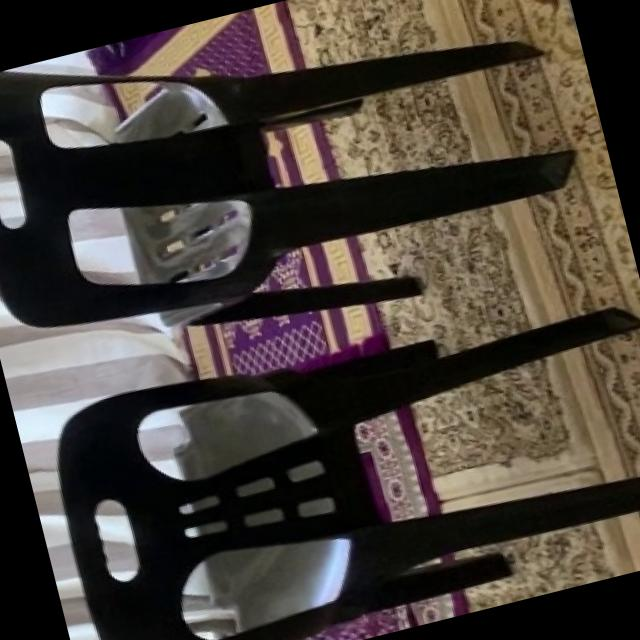Chair: (0, 0, 602, 399), (30, 260, 640, 640)
